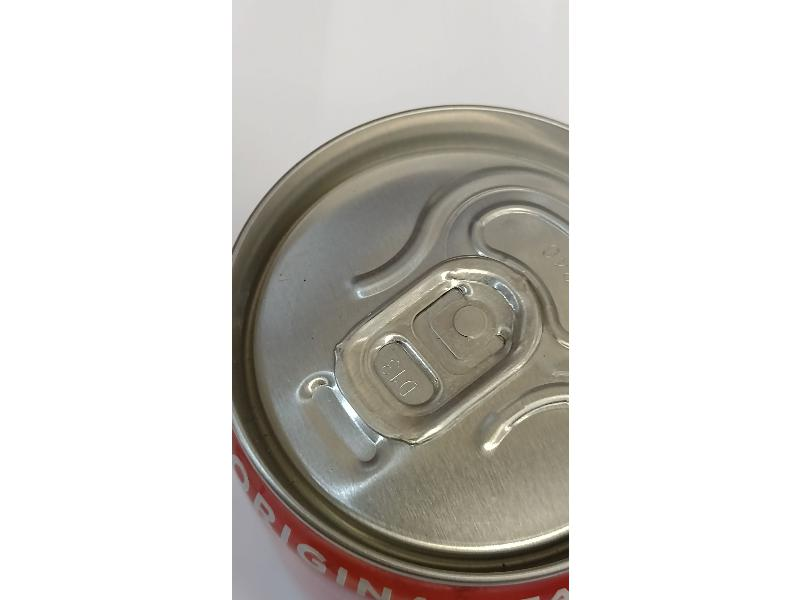can: (234, 103, 566, 595)
